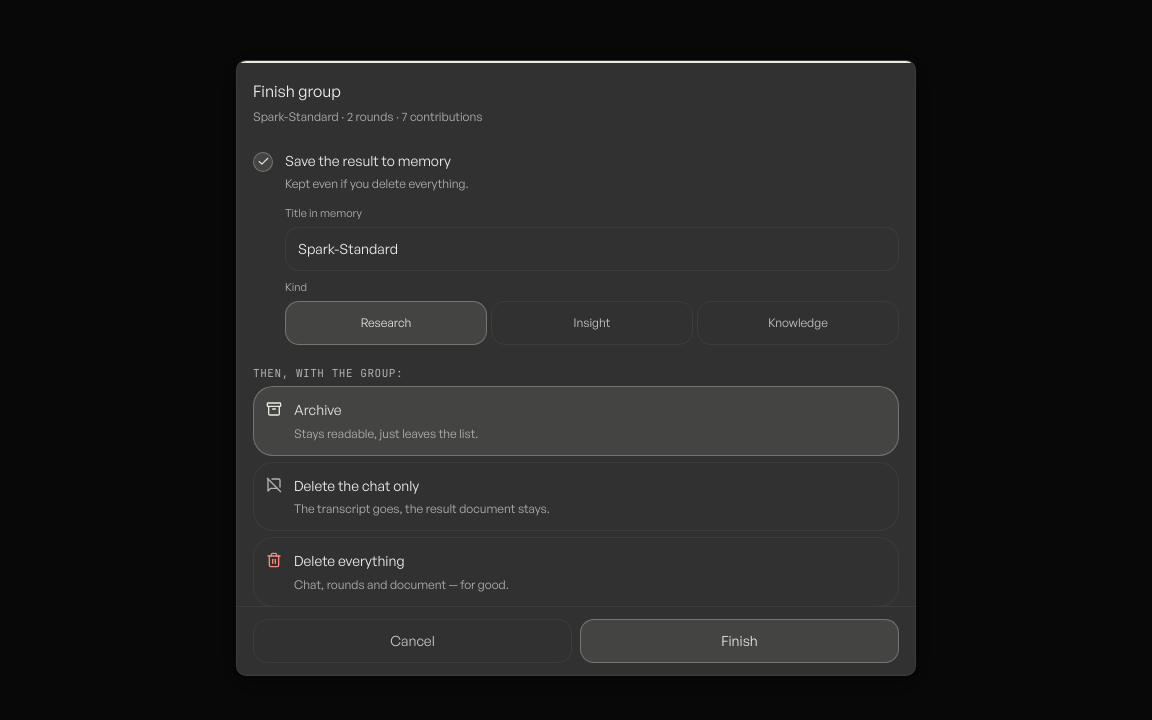
FinishGroupDialog › bietet die Memory-Felder nur an, solange gemerkt wird
Expected: the field with test id "finish-memory-title" is shown, [285, 227, 899, 271]
Click the button with test id "finish-memorize" at (368, 160), box [253, 138, 899, 205]
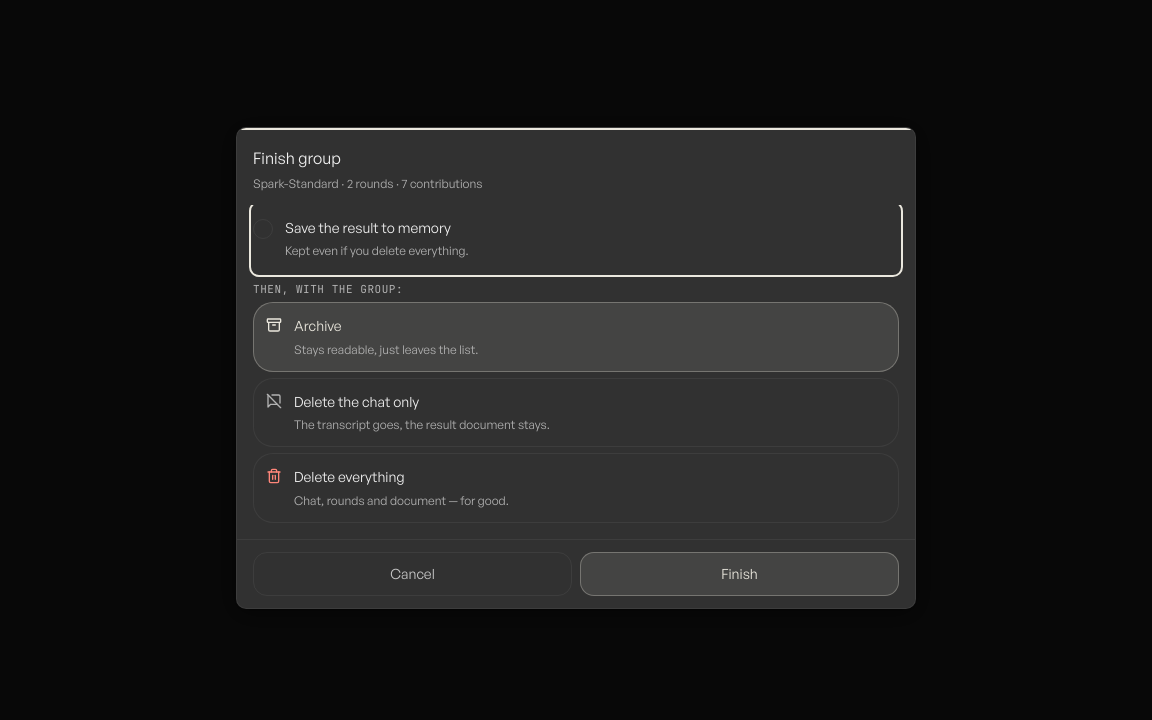
Expected: the field with test id "finish-memory-title" is gone
